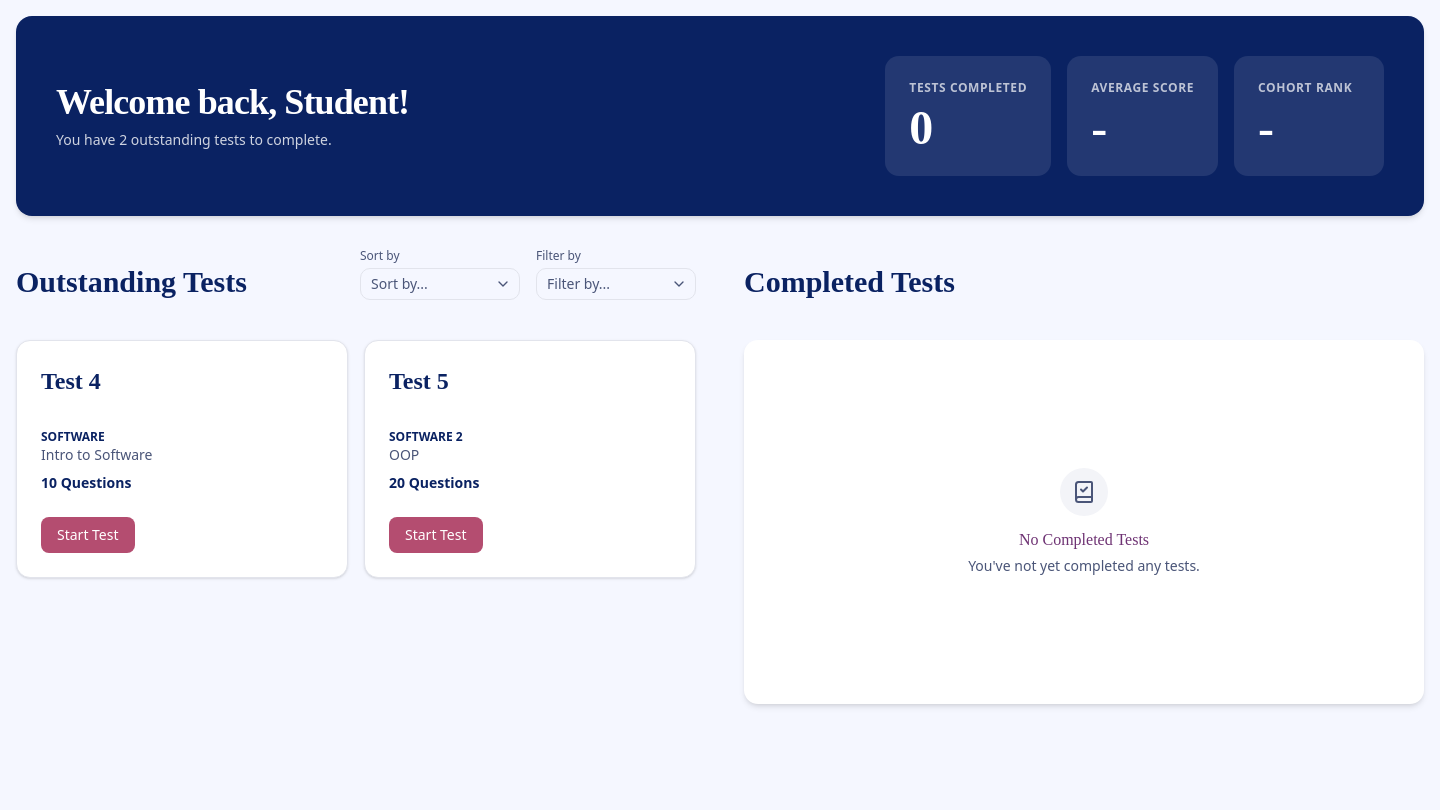
Test: Dashboard Page › opens the sort dropdown and selects an option
// Open the sort dropdown
What coordinates should you click on to do the following:
click the text "Sort by..."
I would click on:
 (399, 284)
Its box is x1=371 y1=274 x2=428 y2=293.
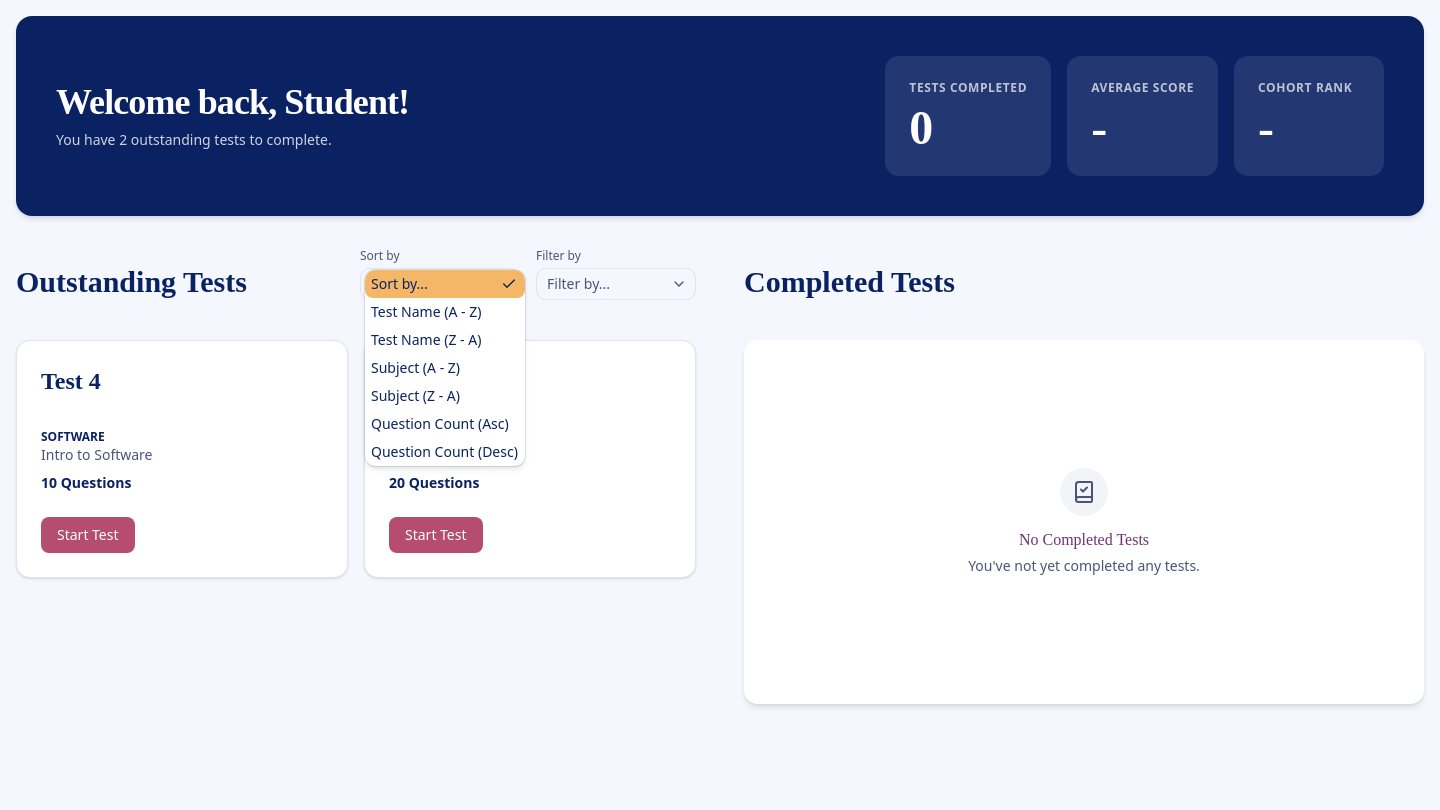
Expected: the text "Test Name (A - Z)" is shown, x1=371 y1=302 x2=493 y2=322
